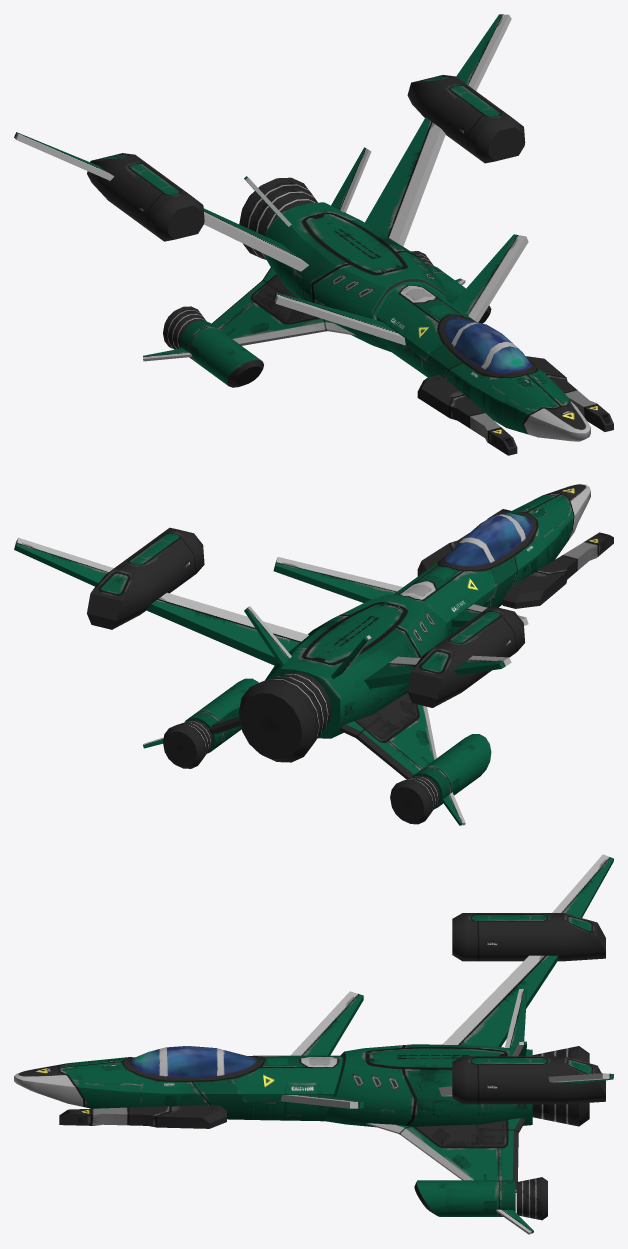
The model's file is StarSparrow2.obj.
3 renders of one model, top to bottom at view 1: azimuth 30°, elevation 25°; view 2: azimuth 150°, elevation 25°; view 3: azimuth 270°, elevation 25°, orthographic. The views are drawn at different scales.
Visible parts, largest first — view 1: StarSparrow10_Mesh.029; view 2: StarSparrow10_Mesh.029; view 3: StarSparrow10_Mesh.029.
Boxes of the visible parts, x1,y1,x2,y2 form: StarSparrow10_Mesh.029: [14, 14, 613, 455]; StarSparrow10_Mesh.029: [14, 484, 613, 825]; StarSparrow10_Mesh.029: [14, 854, 613, 1234].
Bounding box in the file's own units: 9.87 × 4.24 × 11.31.
Materials: 1 (1 with a texture image).
